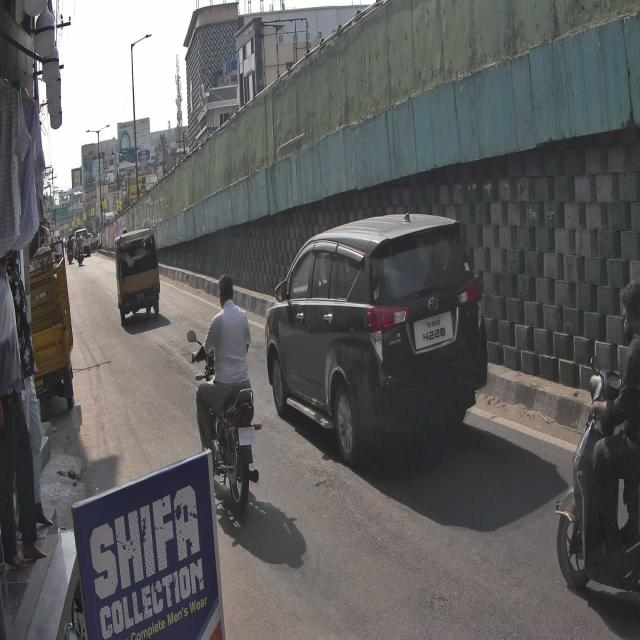single_rider: (185, 272, 266, 516)
